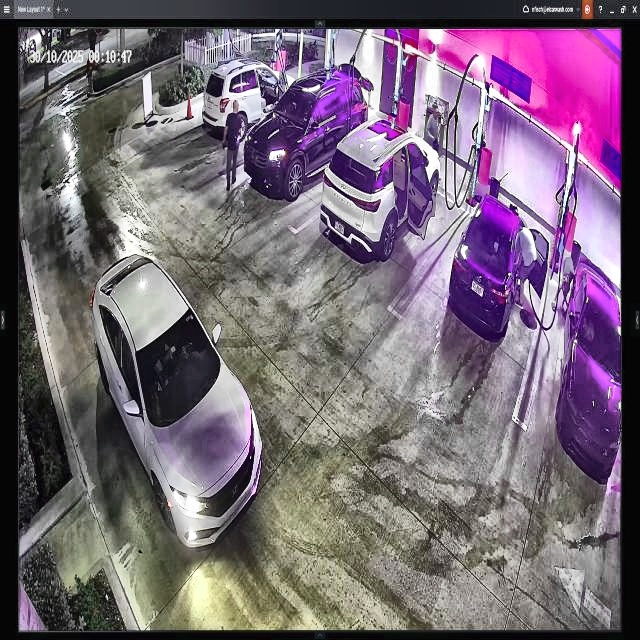Car: (91, 251, 261, 546), (318, 118, 442, 259), (244, 68, 369, 198), (448, 196, 548, 328), (202, 60, 295, 141)
